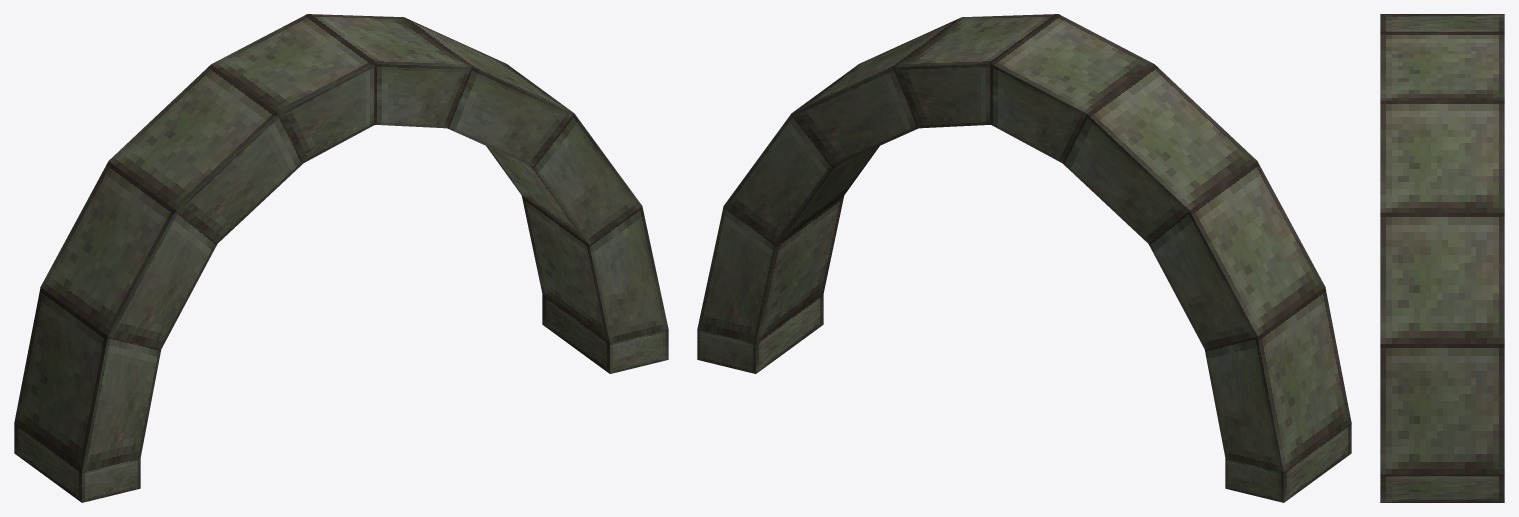
Rendered from arch.glb.
3 renders of one model, left to right at view 1: azimuth 30°, elevation 25°; view 2: azimuth 150°, elevation 25°; view 3: azimuth 270°, elevation 25°, orthographic. The views are drawn at different scales.
Parts seen in each view (by area): view 1: Cube.031; view 2: Cube.031; view 3: Cube.031.
Boxes of the visible parts, <box> form: Cube.031: <box>14,14,668,502</box>; Cube.031: <box>697,14,1351,502</box>; Cube.031: <box>1380,14,1504,502</box>.
Bounding box in the file's own units: 4 × 2.4 × 0.8.
1 material, 1 textured.
